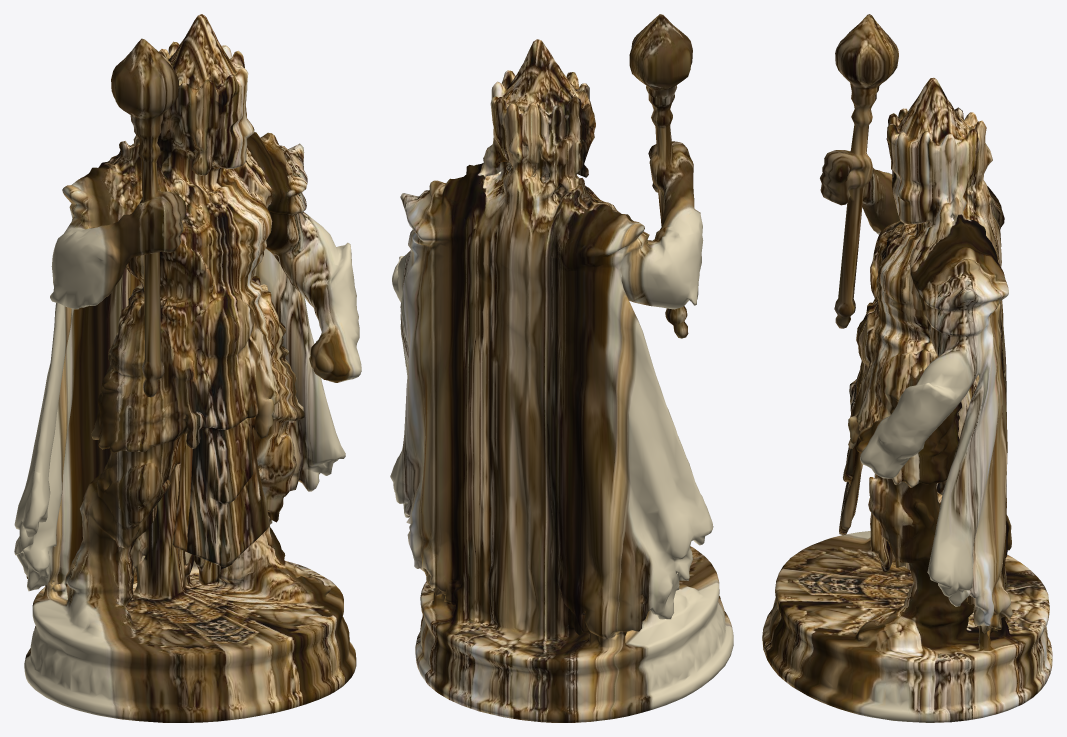
The model's file is raja.glb.
The picture shows the model from 3 angles, left to right: view 1: azimuth 30°, elevation 25°; view 2: azimuth 150°, elevation 25°; view 3: azimuth 270°, elevation 25°; orthographic projection. The views are drawn at different scales.
Visible parts, largest first — view 1: geometry_0; view 2: geometry_0; view 3: geometry_0.
Part boxes in pixels (x1,y1,x2,y2): geometry_0: (14,14,361,722); geometry_0: (390,14,733,722); geometry_0: (762,14,1052,722).
Bounding box in the file's own units: 1.02 × 2.02 × 0.8586.
Materials: 1 (1 with a texture image).
